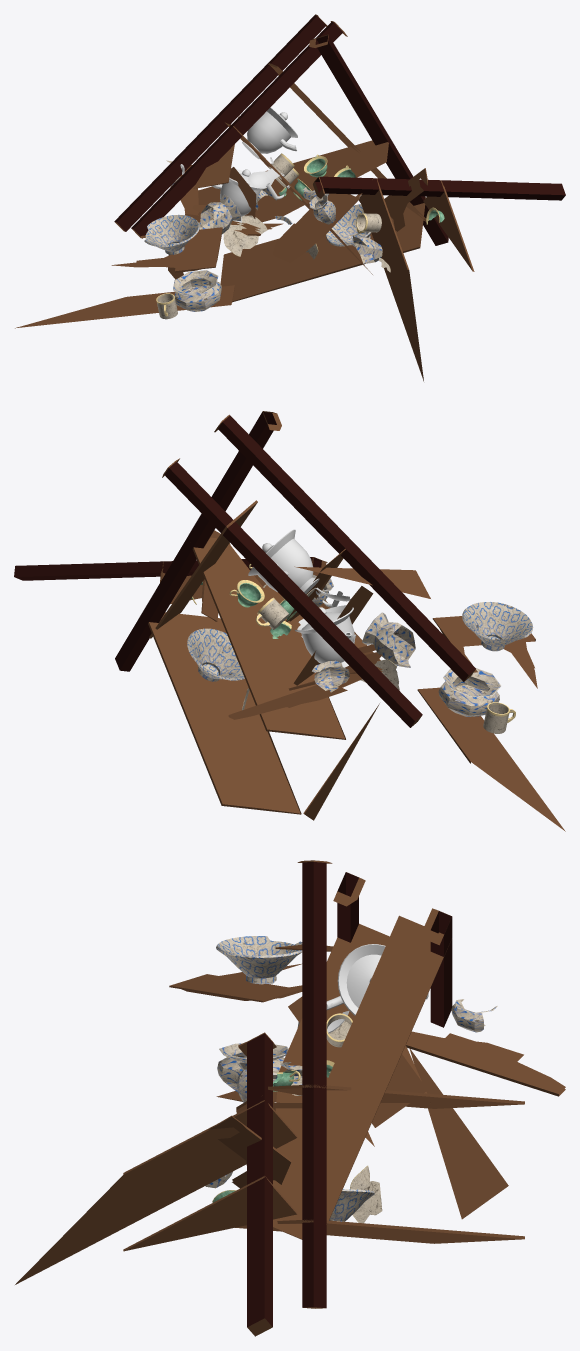
Rendered from BreakingShelf-Final (1).fbx.
3 views of the same model, one above another, from view 1: azimuth 30°, elevation 25°; view 2: azimuth 150°, elevation 25°; view 3: azimuth 270°, elevation 25° (orthographic). The views are drawn at different scales.
Parts seen in each view (by area): view 1: Kettle.001; view 2: Kettle.001; view 3: Kettle.001.
Boxes of the visible parts, left/top/right/bottom form: Kettle.001: left=15, top=14, right=565, bottom=381; Kettle.001: left=14, top=411, right=565, bottom=831; Kettle.001: left=15, top=860, right=565, bottom=1336.
Size of the model in its own units: 862 by 469 by 536.
